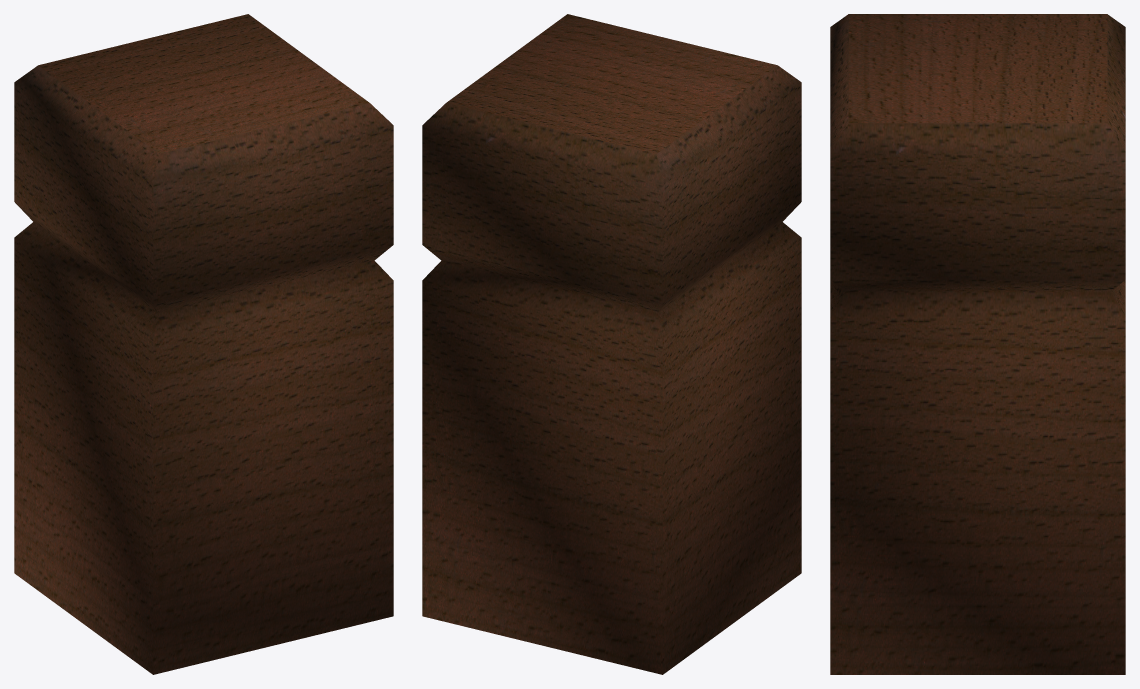
File: Koma_B_S_C2.fbx
3 renders of one model, left to right at view 1: azimuth 30°, elevation 25°; view 2: azimuth 150°, elevation 25°; view 3: azimuth 270°, elevation 25°, orthographic. The views are drawn at different scales.
Visible parts, largest first — view 1: Koma_B_S_C2; view 2: Koma_B_S_C2; view 3: Koma_B_S_C2.
Part boxes in pixels (x1,y1,x2,y2): Koma_B_S_C2: (14, 14, 393, 674); Koma_B_S_C2: (422, 14, 801, 674); Koma_B_S_C2: (830, 14, 1125, 674).
Bounding box in the file's own units: 1.28 × 2.6 × 1.28.
Materials: 1 (1 with a texture image).
